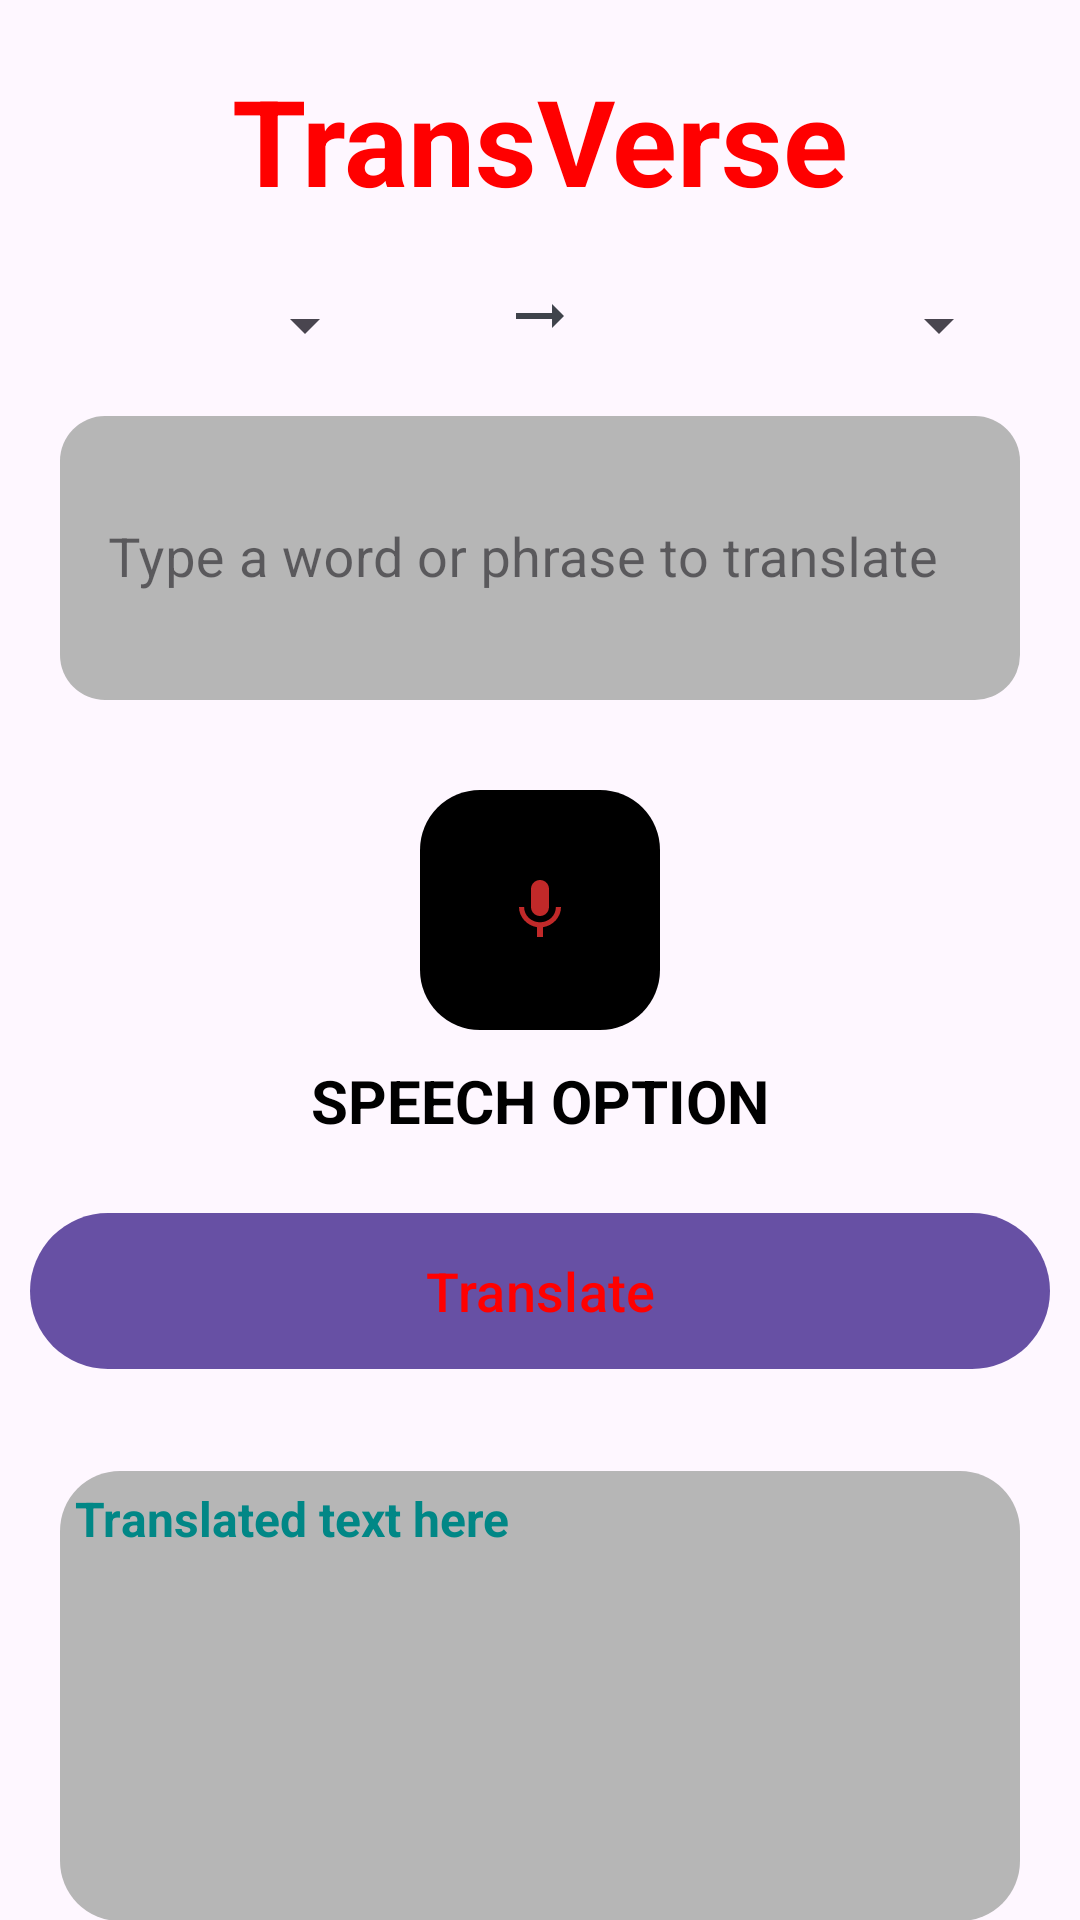

Named icons in this screenshot (1080 × 1920) and their centers, (x,y):
arrow right: (540,316)
mic: (540,910)
